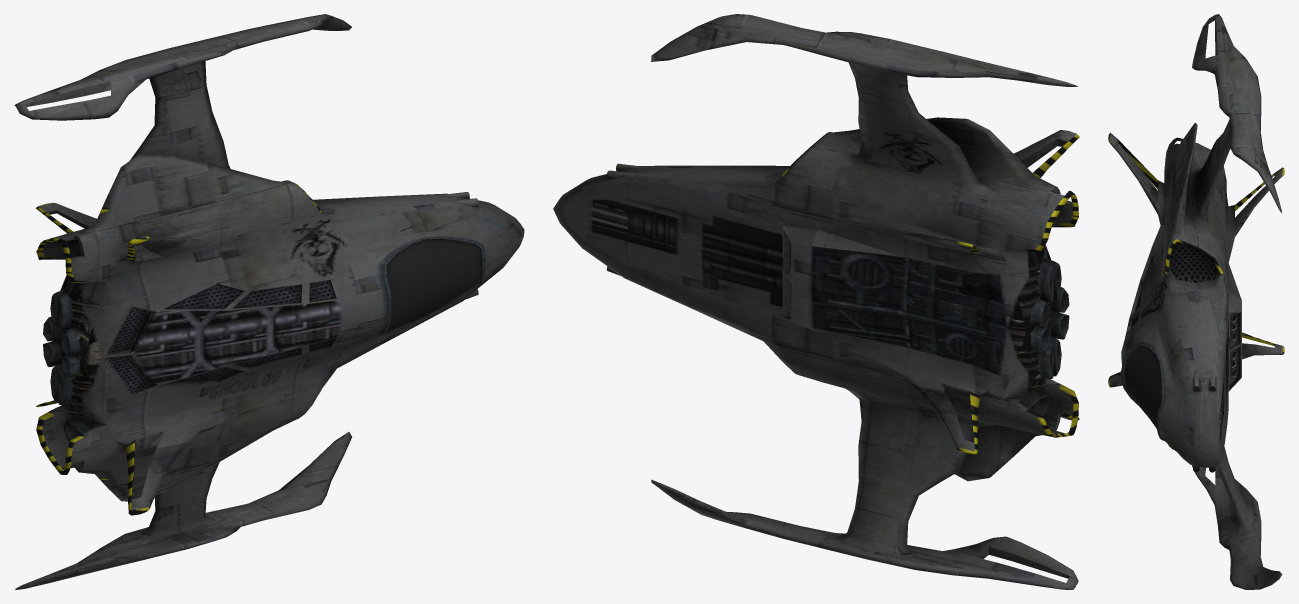
The model's file is GhoulFighter.obj.
3 views of the same model, side by side, from view 1: azimuth 30°, elevation 25°; view 2: azimuth 150°, elevation 25°; view 3: azimuth 270°, elevation 25° (orthographic). The views are drawn at different scales.
Parts seen in each view (by area): view 1: Box01; view 2: Box01; view 3: Box01.
Part boxes in pixels (x1=…): Box01: x1=14, y1=14, x2=524, y2=589; Box01: x1=553, y1=14, x2=1079, y2=589; Box01: x1=1108, y1=14, x2=1284, y2=589.
Bounding box in the file's own units: 44.52 × 41.51 × 15.06.
